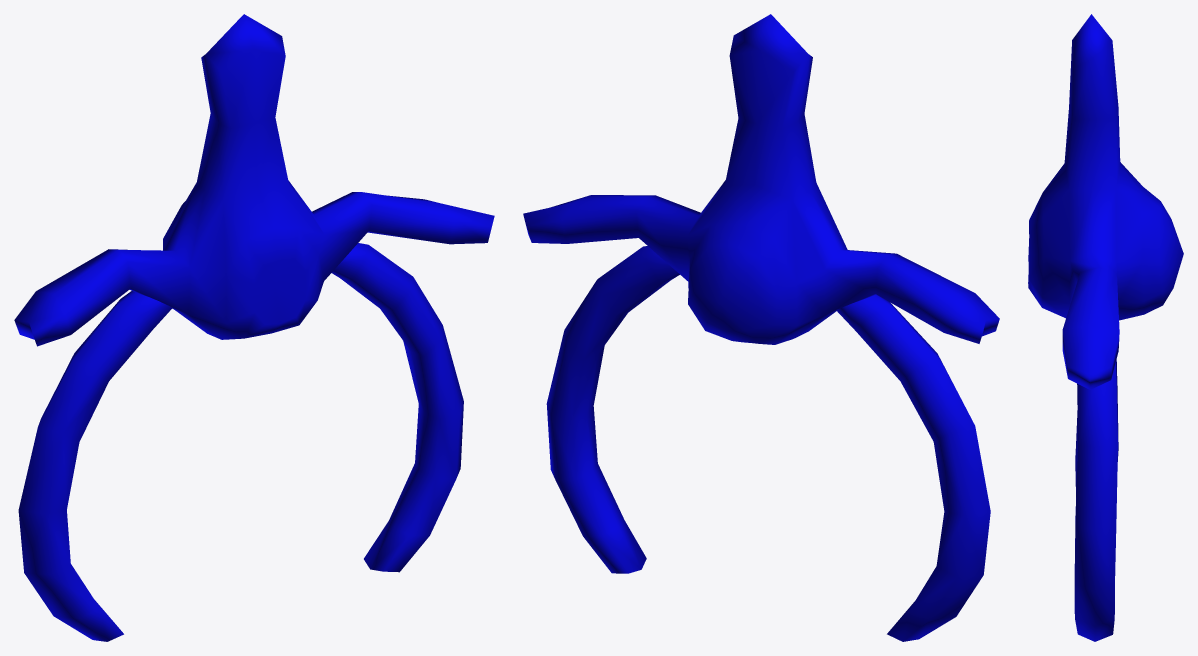
The model's file is espina_5.fbx.
The picture shows the model from 3 angles, left to right: view 1: azimuth 30°, elevation 25°; view 2: azimuth 150°, elevation 25°; view 3: azimuth 270°, elevation 25°; orthographic projection. The views are drawn at different scales.
Visible parts, largest first — view 1: polySurface68; view 2: polySurface68; view 3: polySurface68.
Part boxes in pixels (<box>): polySurface68: <box>14,14,494,641</box>; polySurface68: <box>523,14,999,641</box>; polySurface68: <box>1028,14,1183,641</box>.
Bounding box in the file's own units: 8.18 × 9.82 × 2.49.
